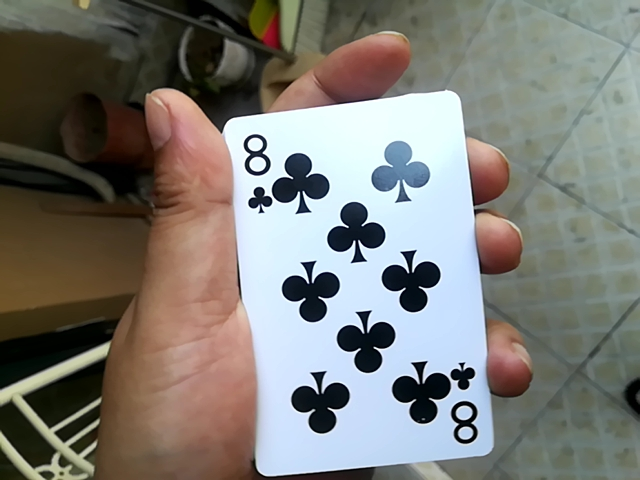mh 8: (207, 91, 474, 476)
